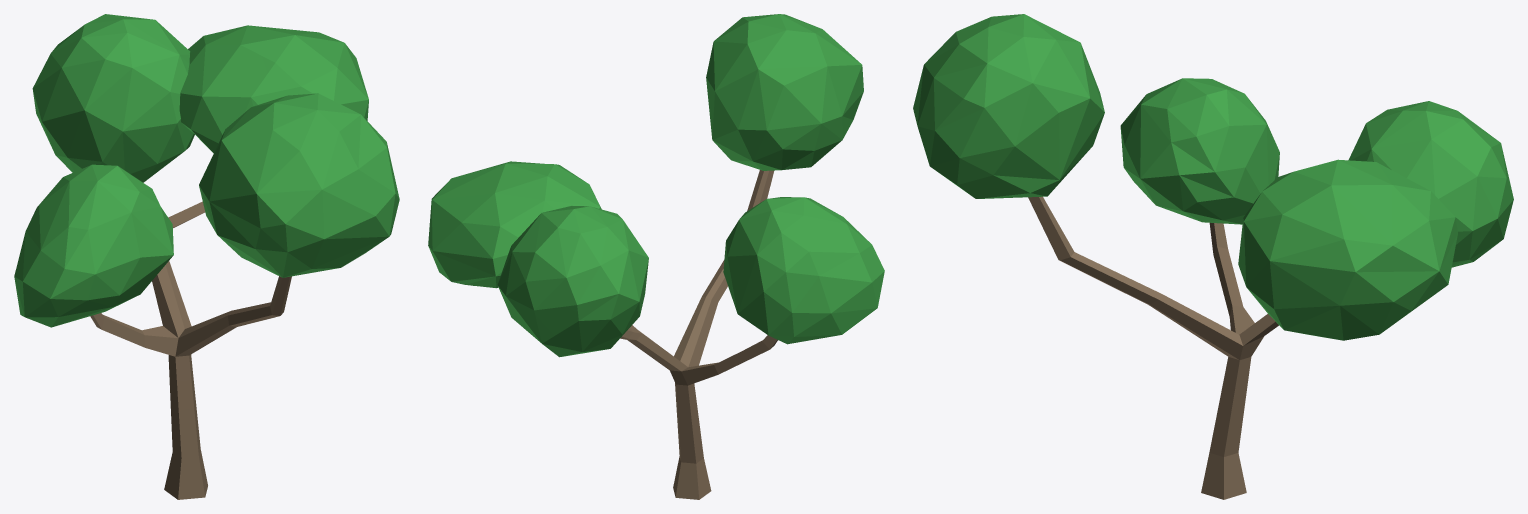
File: tree_b_3.FBX
3 renders of one model, left to right at view 1: azimuth 30°, elevation 25°; view 2: azimuth 150°, elevation 25°; view 3: azimuth 270°, elevation 25°, orthographic. The views are drawn at different scales.
Parts seen in each view (by area): view 1: tree_b_3; view 2: tree_b_3; view 3: tree_b_3.
Boxes of the visible parts, <box> form: tree_b_3: <box>14,14,399,499</box>; tree_b_3: <box>428,14,884,499</box>; tree_b_3: <box>913,14,1513,499</box>.
Bounding box in the file's own units: 6.92 × 7.23 × 8.38.
